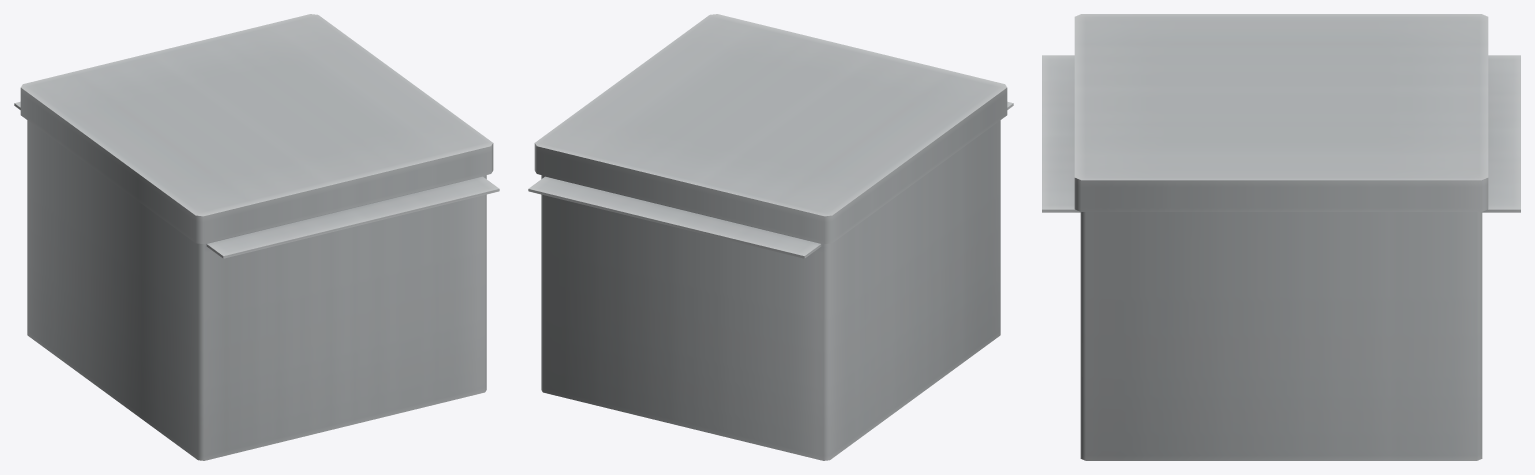
The model's file is jsf_ChocolateHotPot_b01.fbx.
The picture shows the model from 3 angles, left to right: view 1: azimuth 30°, elevation 25°; view 2: azimuth 150°, elevation 25°; view 3: azimuth 270°, elevation 25°; orthographic projection. The views are drawn at different scales.
Parts seen in each view (by area): view 1: Body, Lid; view 2: Body, Lid; view 3: Body, Lid.
Part boxes in pixels (x1,y1,x2,y2): Body: (14,101,499,460); Lid: (20,14,493,243); Body: (528,101,1013,460); Lid: (534,14,1007,243); Body: (1042,55,1520,460); Lid: (1074,14,1488,211).
Size of the model in its own units: 22.42 by 17.8 by 27.28.
